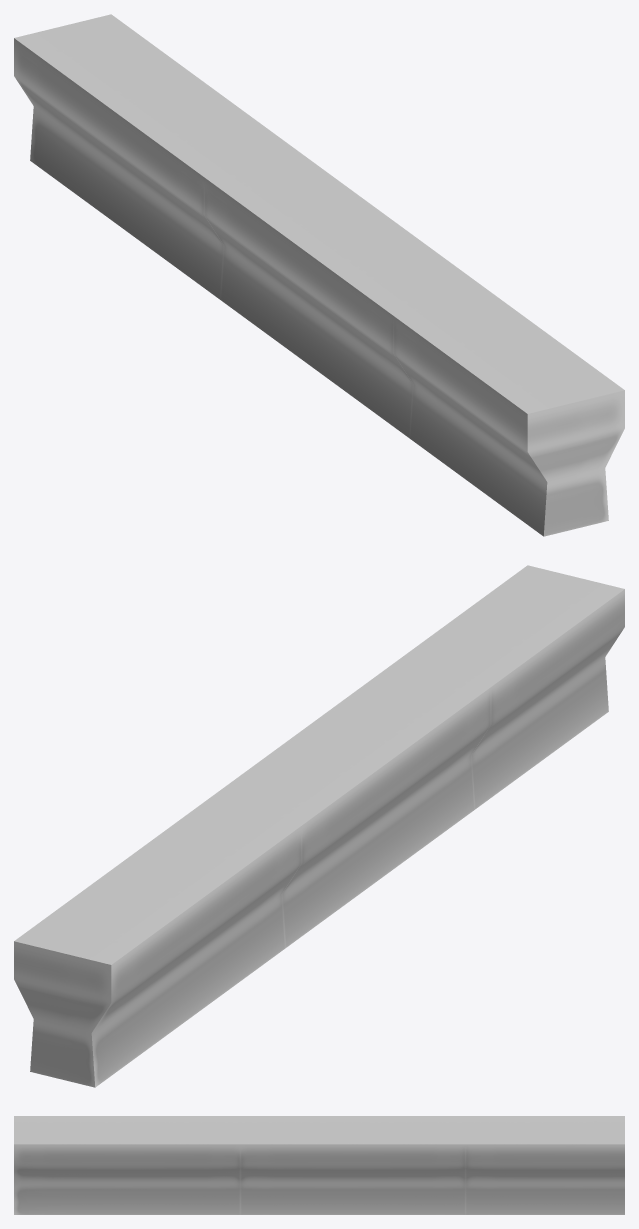
File: Banister_a.fbx
3 renders of one model, top to bottom at view 1: azimuth 30°, elevation 25°; view 2: azimuth 150°, elevation 25°; view 3: azimuth 270°, elevation 25°, orthographic. The views are drawn at different scales.
Visible parts, largest first — view 1: pCube29; view 2: pCube29; view 3: pCube29.
Part boxes in pixels (left/top/right/bottom): pCube29: left=14, top=14, right=624, bottom=536; pCube29: left=14, top=565, right=624, bottom=1087; pCube29: left=14, top=1116, right=624, bottom=1214.
Bounding box in the file's own units: 1 × 1.24 × 9.14.
